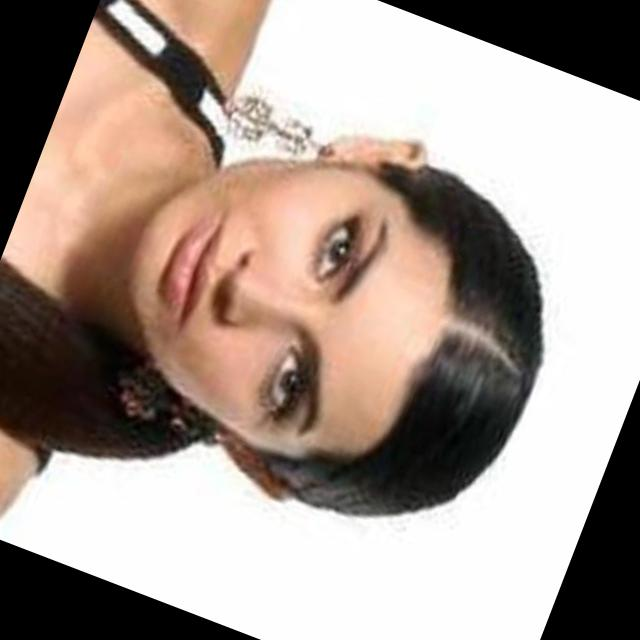bareface: (100, 59, 588, 518)
